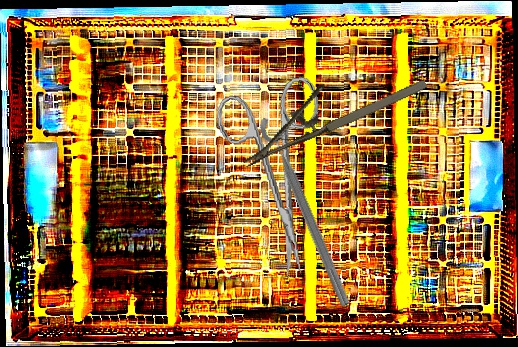Fixation Ring: (256, 108, 366, 310)
Iris Scissors: (212, 75, 343, 283)
Needle Holder: (228, 48, 430, 168)
